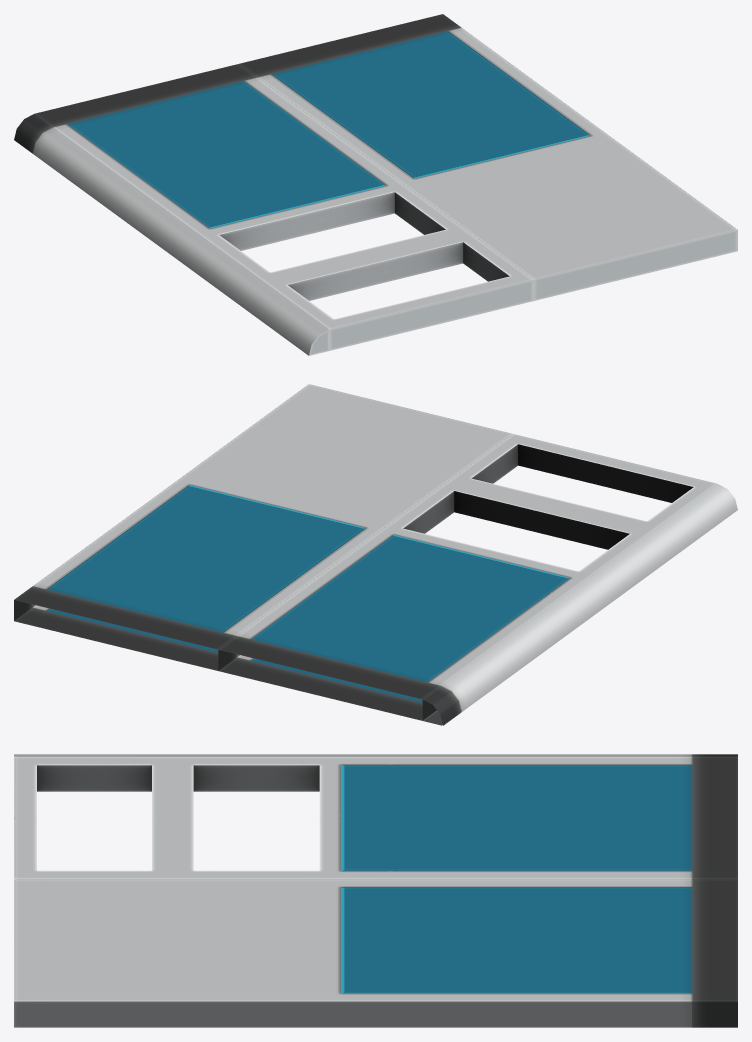
File: cubicle_wall.obj
3 views of the same model, one above another, from view 1: azimuth 30°, elevation 25°; view 2: azimuth 150°, elevation 25°; view 3: azimuth 270°, elevation 25° (orthographic). The views are drawn at different scales.
Parts seen in each view (by area): view 1: Wall_Closed, Wall_Open, Corner; view 2: Wall_Closed, Wall_Open, Corner; view 3: Wall_Closed, Wall_Open, Corner.
Part boxes in pixels (left/top/right/bottom): Wall_Closed: left=239, top=14, right=737, bottom=300; Wall_Open: left=35, top=64, right=533, bottom=350; Corner: left=14, top=114, right=329, bottom=355; Wall_Closed: left=14, top=384, right=512, bottom=670; Wall_Open: left=218, top=434, right=716, bottom=720; Corner: left=422, top=484, right=737, bottom=725; Wall_Closed: left=14, top=879, right=737, bottom=1027; Wall_Open: left=14, top=756, right=737, bottom=879; Corner: left=14, top=754, right=737, bottom=756.
Size of the model in its own units: 126 by 6 by 150.
1 material, 1 textured.
